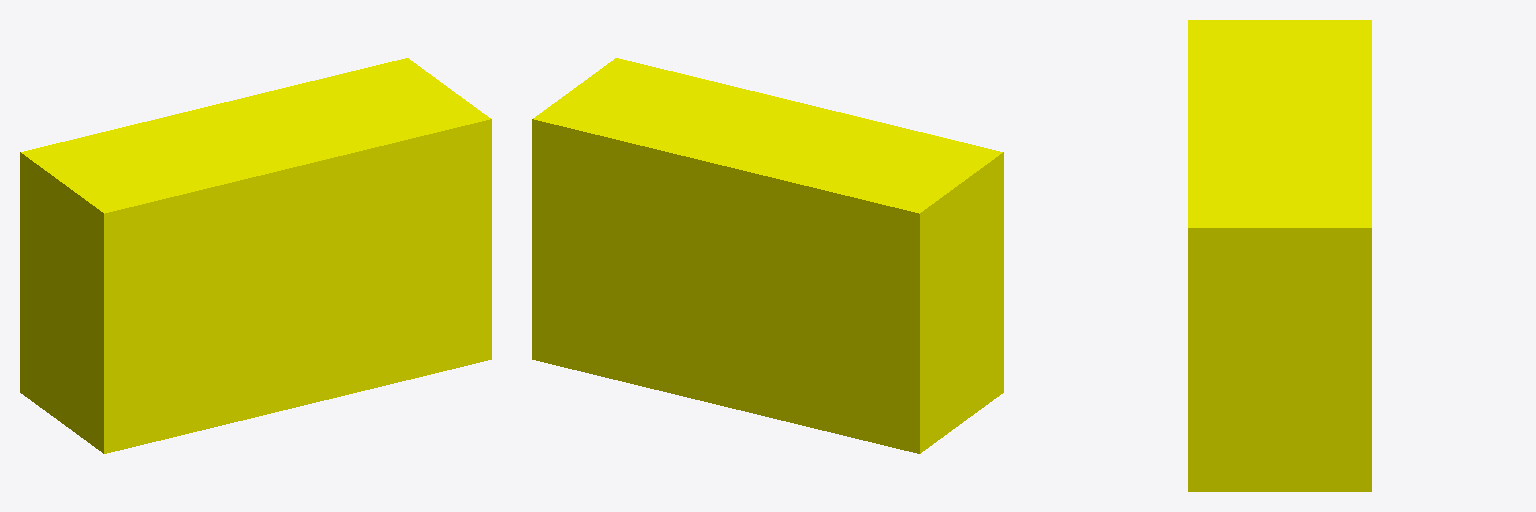
robot.urdf — box.urdf:
<?xml version="0.0" ?>
<robot name="box.urdf">
  <link name="baseLink">
    <contact>
      <lateral_friction value="0.5"/>
      <rolling_friction value="0.0"/>
      <contact_cfm value="0.0"/>
      <contact_erp value="1.0"/>
    </contact>
    <inertial>
      <origin rpy="0 0 0" xyz="0 0 0"/>
       <mass value=".01"/>
       <inertia ixx="1" ixy="0" ixz="0" iyy="1" iyz="0" izz="1"/>
    </inertial>
    <visual>
      <origin rpy="0 0 0" xyz="0 0 0"/>
      <geometry>
				<mesh filename="box.obj" scale="0.16 0.06 0.095"/>
      </geometry>
       <material name="white">
        <color rgba="1 1 0 1"/>
      </material>
    </visual>
    <collision>
      <origin rpy="0 0 0" xyz="0 0 0"/>
      <geometry>
	 	<box size="0.16 0.06 0.095"/>
      </geometry>
    </collision>
  </link>
</robot>

--- Facts derived from the render (not from the file) ---
The picture shows the robot from 3 angles, left to right: view 1: azimuth 30°, elevation 25°; view 2: azimuth 150°, elevation 25°; view 3: azimuth 270°, elevation 25°; orthographic projection.
Model box.urdf with 1 links and 0 joints (none), rooted at baseLink, posed all joints at 0.
Visible links, largest first — view 1: baseLink; view 2: baseLink; view 3: baseLink.
Link boxes in pixels (x1,y1,x2,y2): baseLink: (20, 58, 491, 453); baseLink: (532, 58, 1003, 453); baseLink: (1188, 20, 1371, 491).
Size in the robot's own frame: 0.16 by 0.06 by 0.095 metres.
1 mesh visuals loaded from 1 distinct referenced files (1 OBJ).